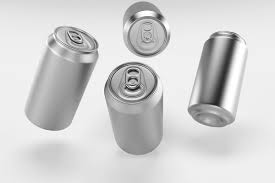can: (25, 2, 246, 160)
